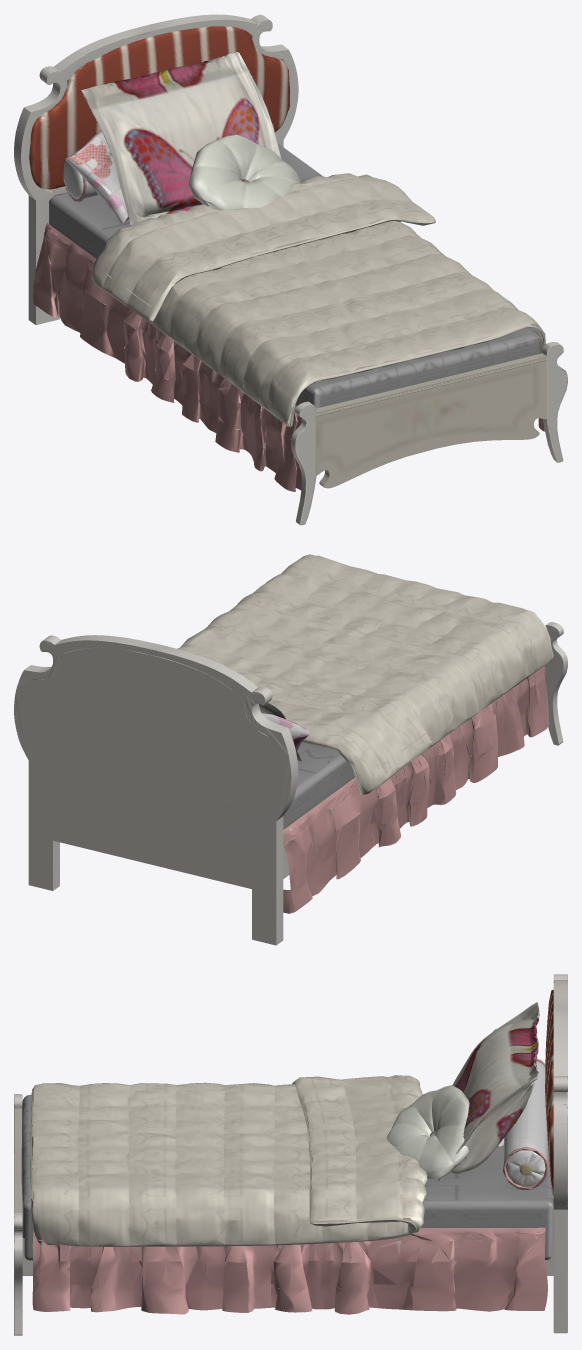
The model's file is raw_model.obj.
3 views of the same model, one above another, from view 1: azimuth 30°, elevation 25°; view 2: azimuth 150°, elevation 25°; view 3: azimuth 270°, elevation 25° (orthographic).
Parts seen in each view (by area): view 1: solid_007, solid_004, solid_008, solid_011, solid_005, solid_001, solid_003, solid_009, solid_010, solid_012; view 2: solid_005, solid_007, solid_004, solid_003, solid_010; view 3: solid_007, solid_004, solid_003, solid_008, solid_005, solid_009, solid_012, solid_001, solid_011.
Part boxes in pixels (box(x1,y1,x2,y2)): solid_007: box(91, 173, 545, 427); solid_004: box(33, 122, 544, 491); solid_008: box(81, 52, 281, 225); solid_011: box(316, 353, 546, 488); solid_005: box(14, 14, 567, 525); solid_001: box(29, 26, 289, 189); solid_003: box(49, 143, 541, 408); solid_009: box(188, 135, 301, 210); solid_010: box(65, 130, 128, 223); solid_012: box(63, 161, 98, 199); solid_005: box(14, 622, 567, 945); solid_007: box(177, 554, 553, 794); solid_004: box(283, 666, 549, 913); solid_003: box(283, 743, 354, 829); solid_010: box(261, 713, 309, 751); solid_007: box(30, 1075, 427, 1246); solid_004: box(32, 1058, 548, 1314); solid_003: box(21, 1094, 553, 1260); solid_008: box(438, 1002, 539, 1180); solid_005: box(14, 974, 567, 1335); solid_009: box(387, 1085, 469, 1179); solid_012: box(504, 1061, 548, 1186); solid_001: box(545, 989, 553, 1195); solid_011: box(14, 1108, 22, 1212).
Size of the model in its own units: 1.22 by 1.04 by 1.98.
1 material, 1 textured.
